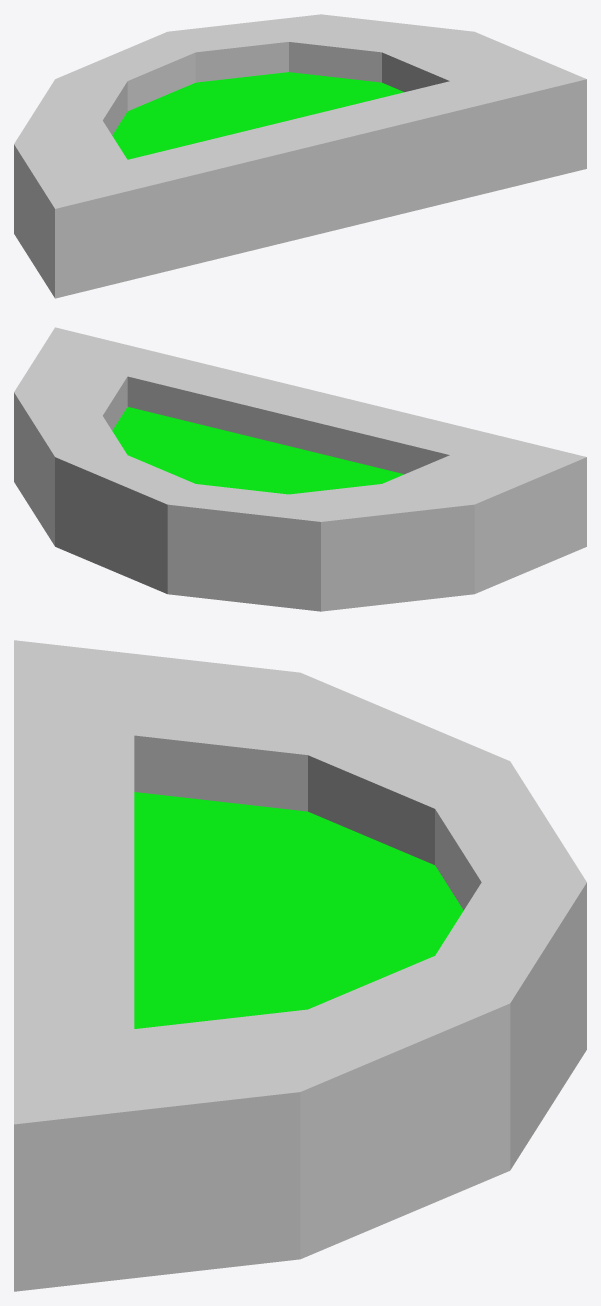
The model's file is Station.fbx.
3 renders of one model, top to bottom at view 1: azimuth 30°, elevation 25°; view 2: azimuth 150°, elevation 25°; view 3: azimuth 270°, elevation 25°, orthographic. The views are drawn at different scales.
Visible parts, largest first — view 1: Cylinder; view 2: Cylinder; view 3: Cylinder.
Part boxes in pixels (x1,y1,x2,y2): Cylinder: (14, 14, 586, 298); Cylinder: (14, 327, 586, 611); Cylinder: (14, 640, 586, 1291).
Size of the model in its own units: 158 by 25.42 by 78.9.
